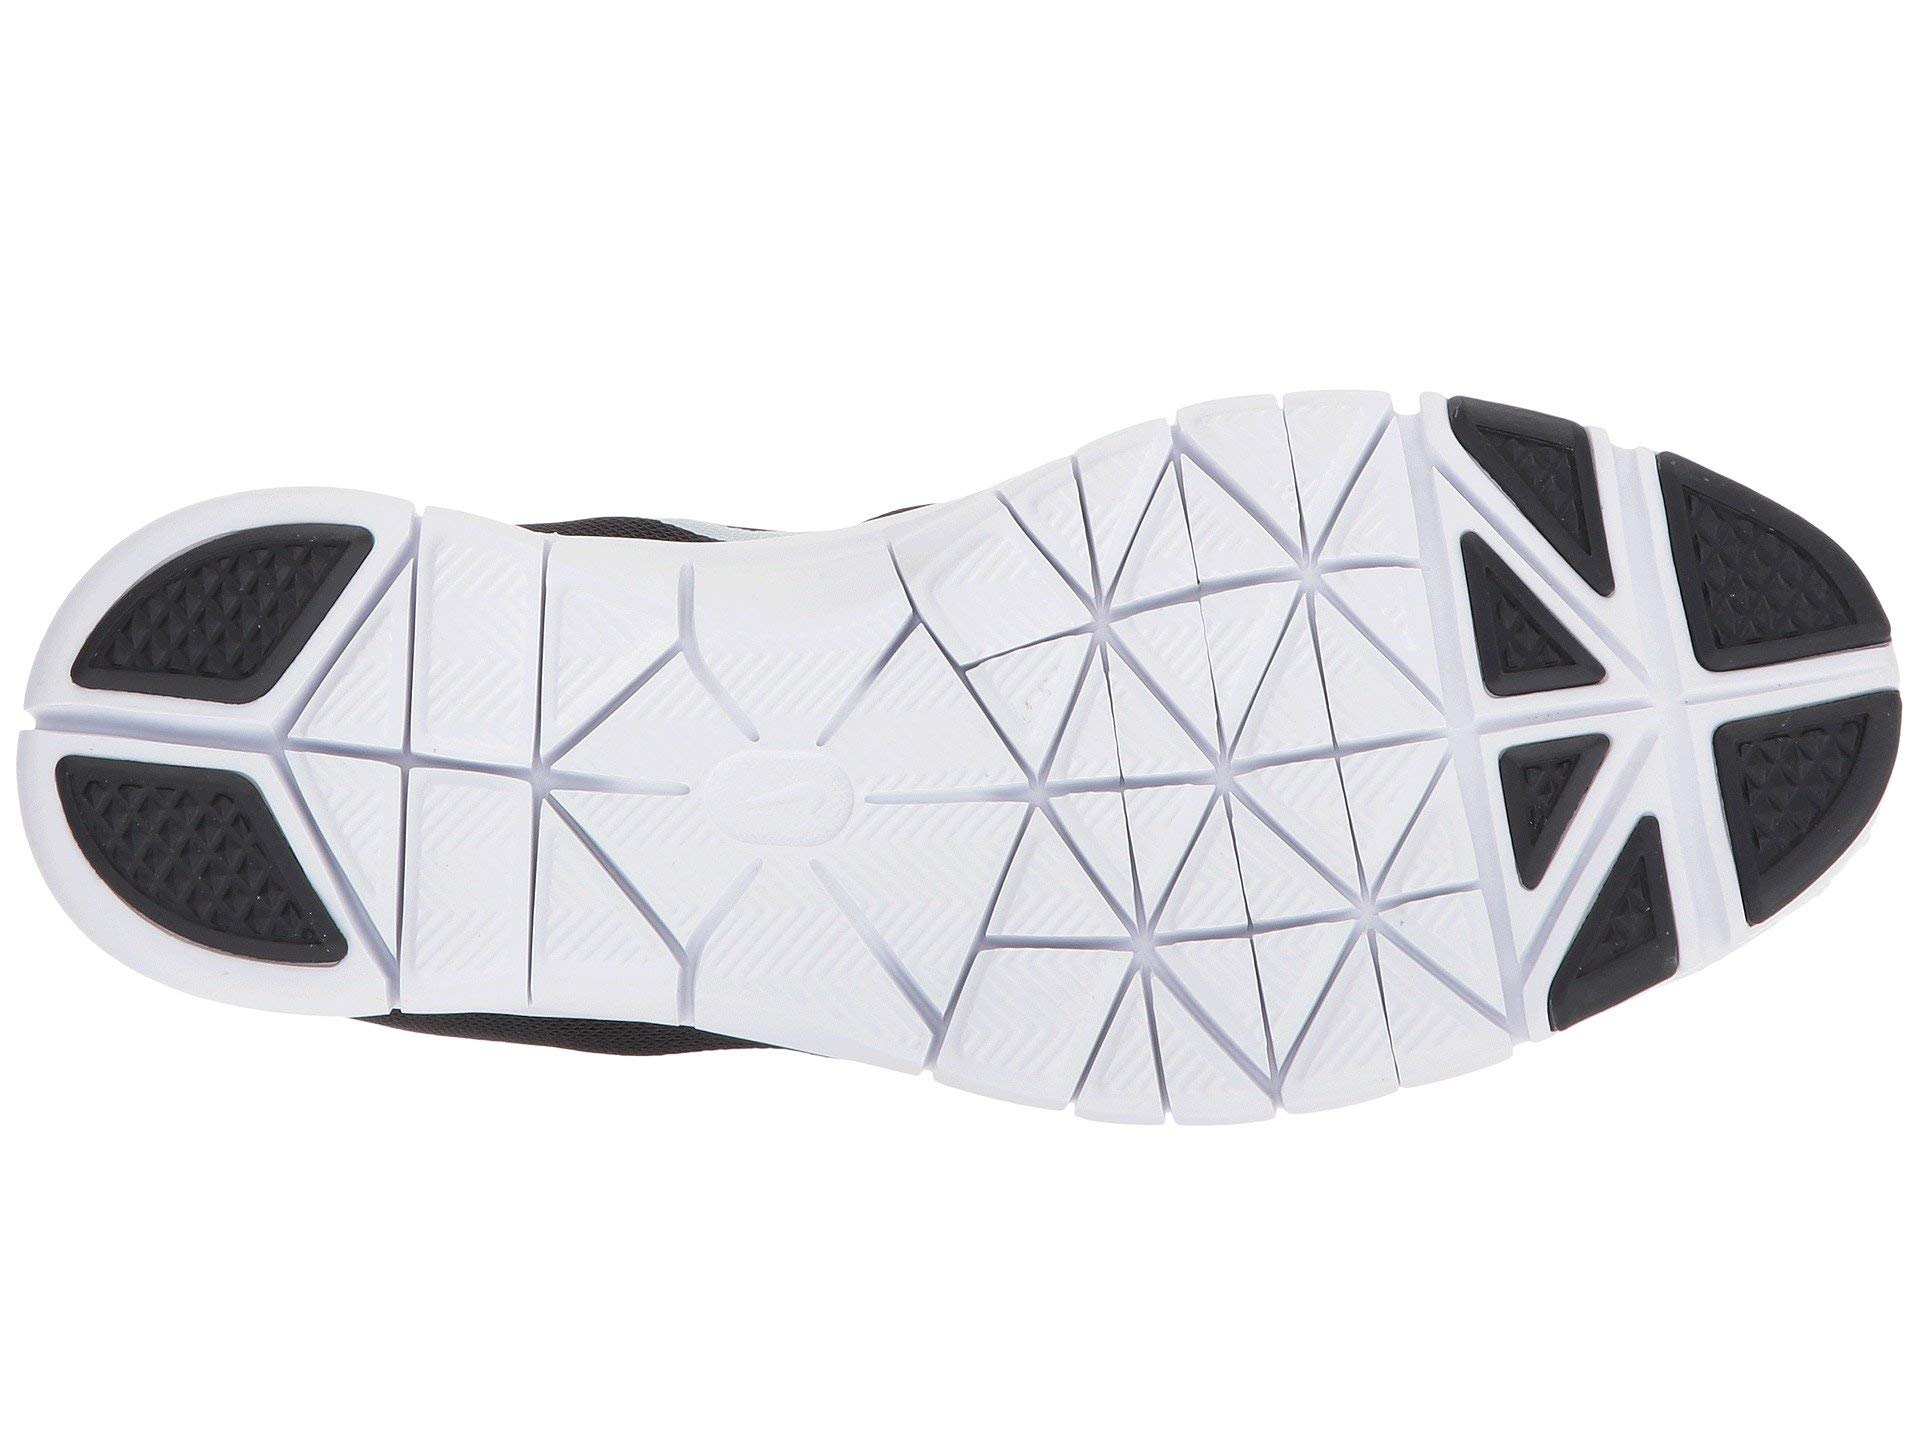line: (949, 492, 1460, 1106), (1507, 393, 1879, 942), (386, 479, 590, 1032)
quad: (949, 492, 1460, 1106), (1507, 393, 1879, 942), (386, 479, 590, 1032), (103, 538, 317, 715)
triangle: (949, 492, 1460, 1106), (1507, 393, 1879, 942)
